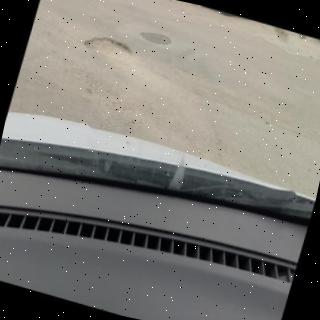pothole: (83, 36, 132, 60)
